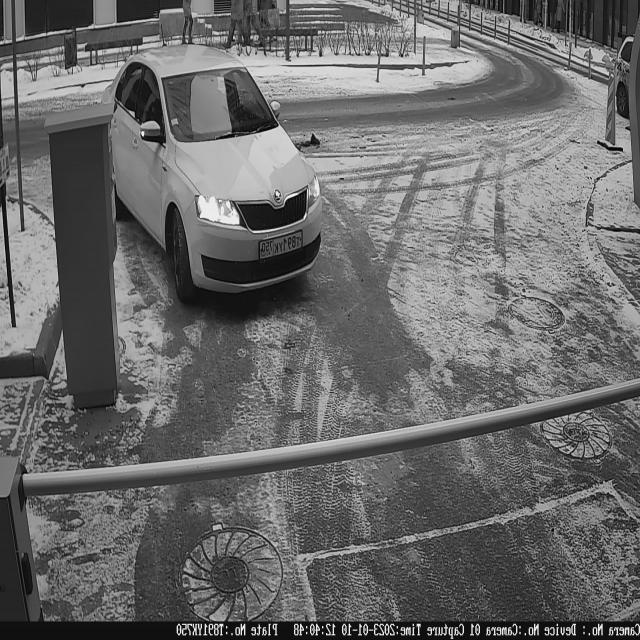car-plate-numbers: (258, 229, 307, 263)
